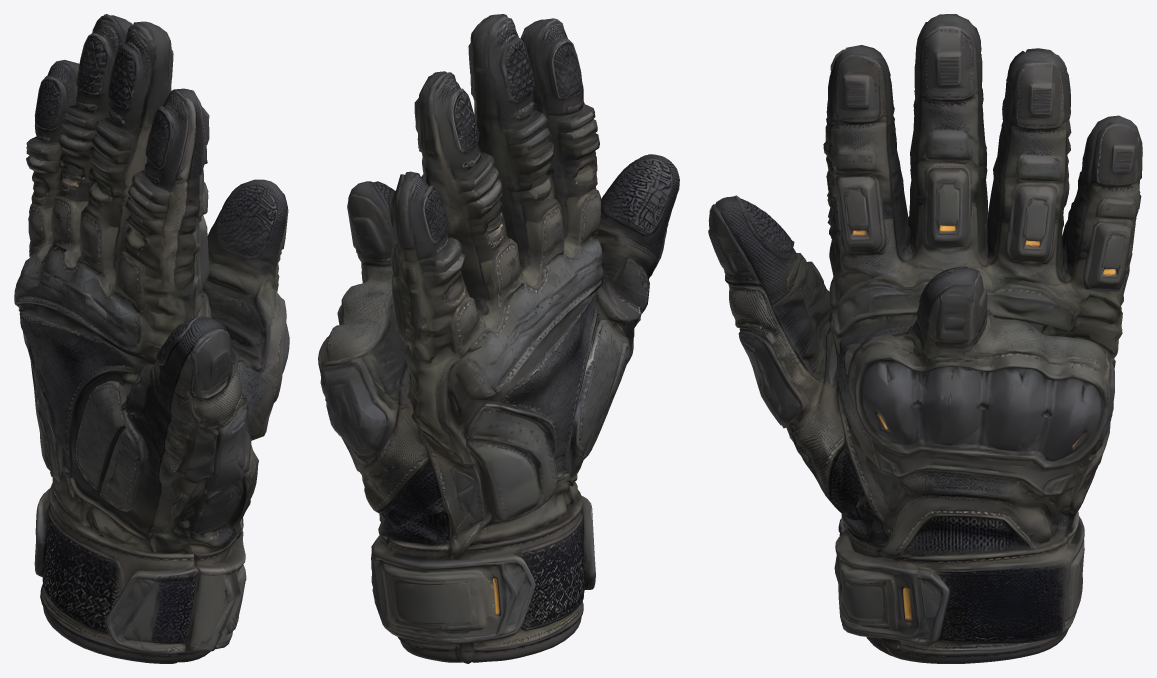
File: tactical-glove-v1.glb
The picture shows the model from 3 angles, left to right: view 1: azimuth 30°, elevation 25°; view 2: azimuth 150°, elevation 25°; view 3: azimuth 270°, elevation 25°; orthographic projection.
Visible parts, largest first — view 1: tripo_node_841be059-a3bf-43cf-9ad0-e4a3706b39a3; view 2: tripo_node_841be059-a3bf-43cf-9ad0-e4a3706b39a3; view 3: tripo_node_841be059-a3bf-43cf-9ad0-e4a3706b39a3.
Part boxes in pixels (left/top/right/bottom): tripo_node_841be059-a3bf-43cf-9ad0-e4a3706b39a3: left=14, top=14, right=289, bottom=663; tripo_node_841be059-a3bf-43cf-9ad0-e4a3706b39a3: left=318, top=14, right=679, bottom=663; tripo_node_841be059-a3bf-43cf-9ad0-e4a3706b39a3: left=708, top=14, right=1142, bottom=663.
Size of the model in its own units: 0.3755 by 0.9799 by 0.6204.
1 material, 1 textured.
